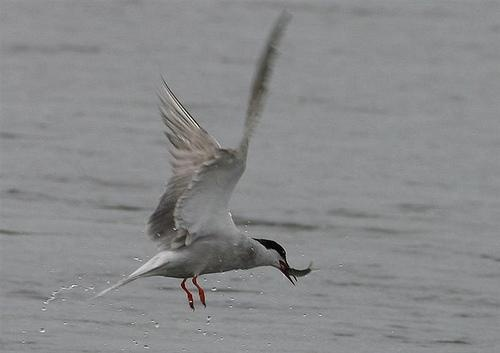bird: (87, 8, 315, 309)
